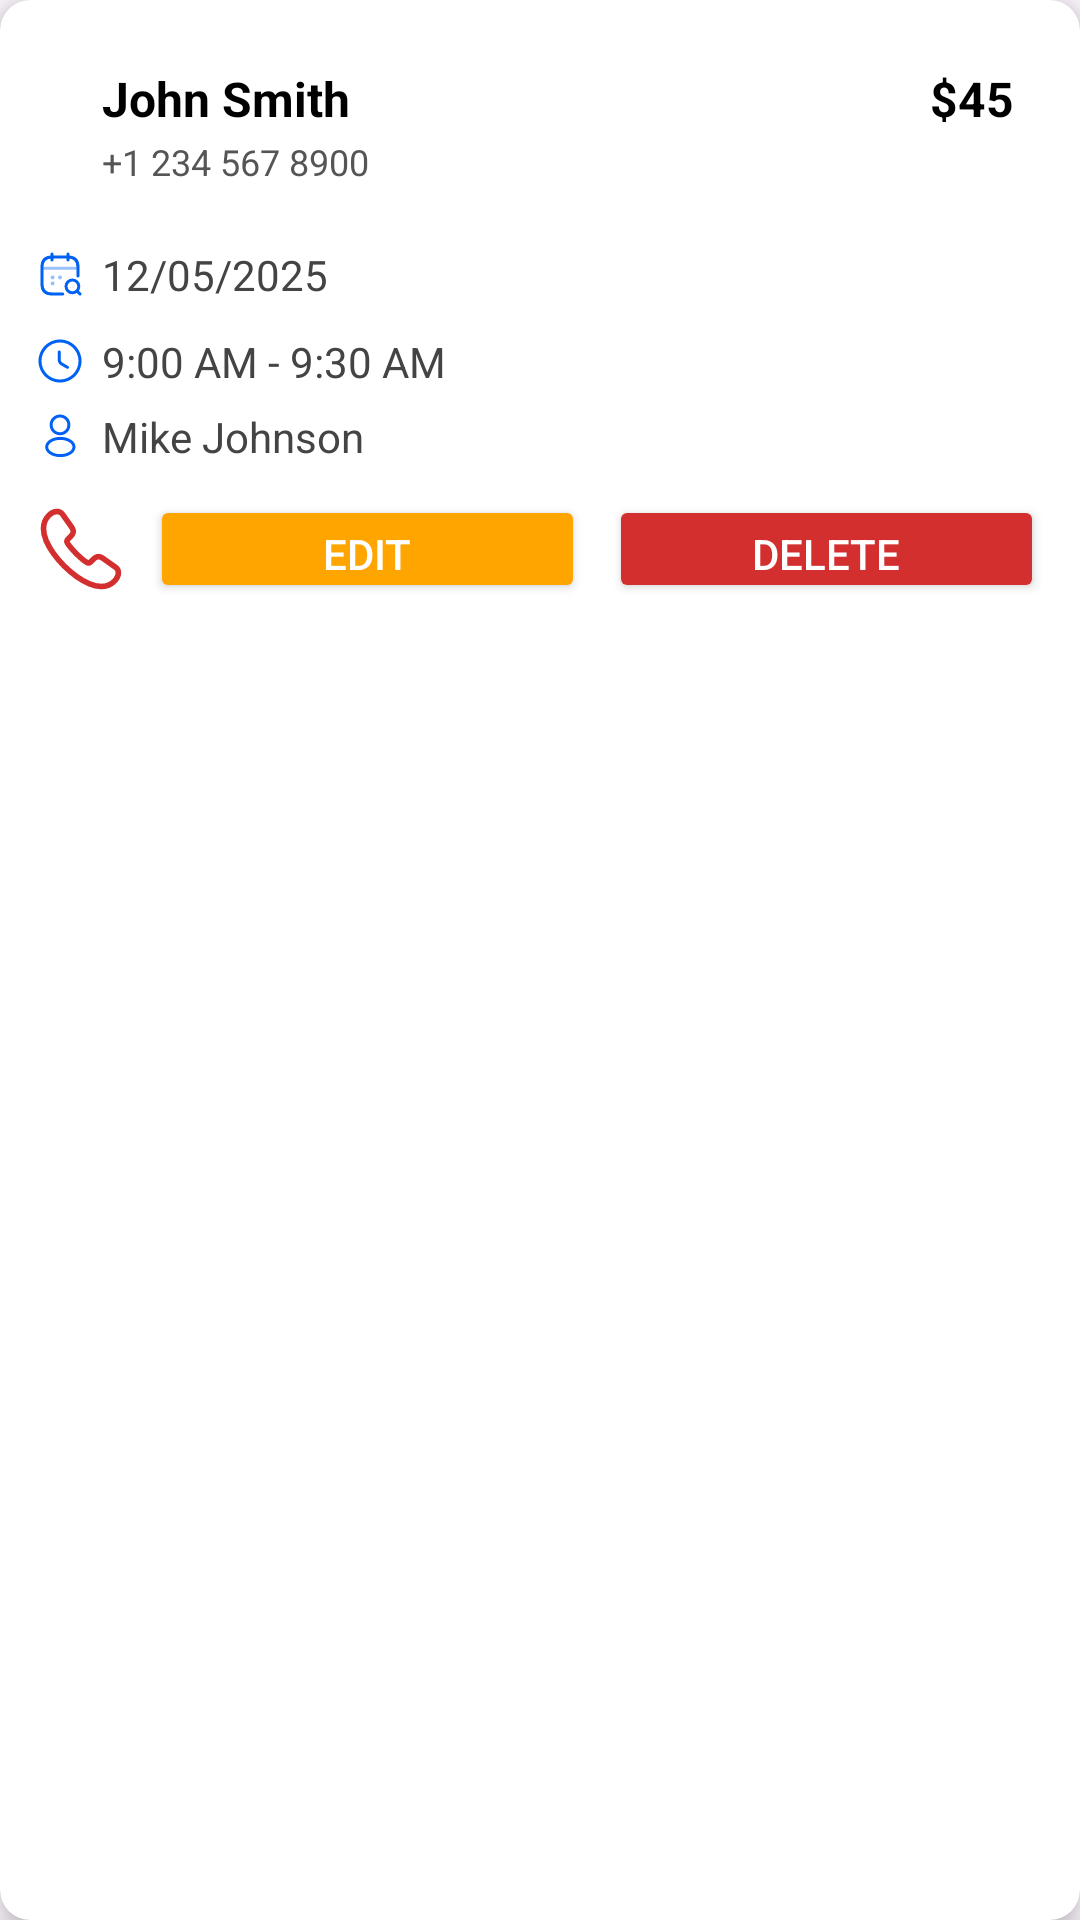

Named icons in this screenshot (1080x1920) and their centers, [x,y]:
calendar: [61,274]
call: [81,549]
clock: [60,361]
person: [60,435]
